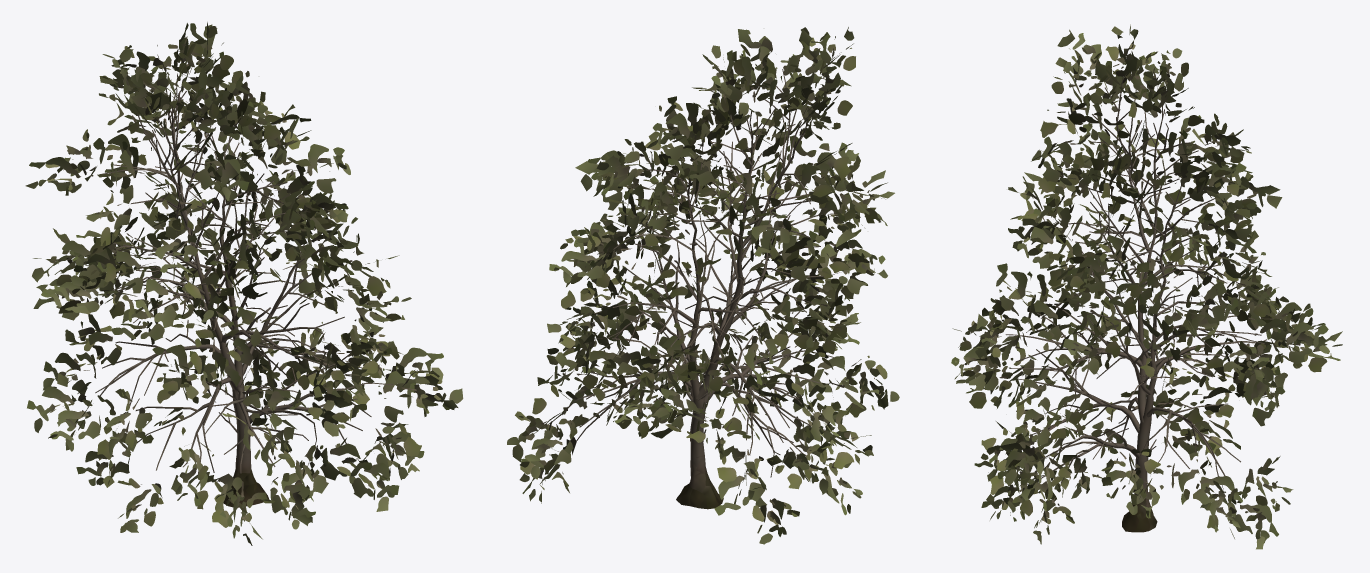
File: SM_BlackAlder_Field_01_PP_LOD5.gltf
The picture shows the model from 3 angles, left to right: view 1: azimuth 30°, elevation 25°; view 2: azimuth 150°, elevation 25°; view 3: azimuth 270°, elevation 25°; orthographic projection. The views are drawn at different scales.
Parts seen in each view (by area): view 1: SM_BlackAlder_Field_01_PP; view 2: SM_BlackAlder_Field_01_PP; view 3: SM_BlackAlder_Field_01_PP.
Boxes of the visible parts, bbox=[...] form: SM_BlackAlder_Field_01_PP: bbox=[25, 22, 463, 545]; SM_BlackAlder_Field_01_PP: bbox=[507, 27, 899, 544]; SM_BlackAlder_Field_01_PP: bbox=[951, 24, 1342, 549].
Size of the model in its own units: 12.26 by 16.08 by 13.29.
Materials: 3 (3 with a texture image).
